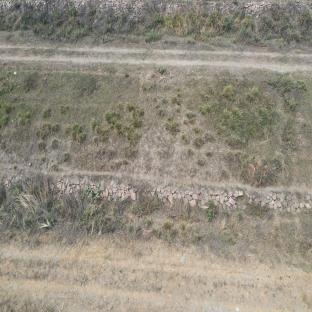rock_toe: (5, 173, 311, 218)
